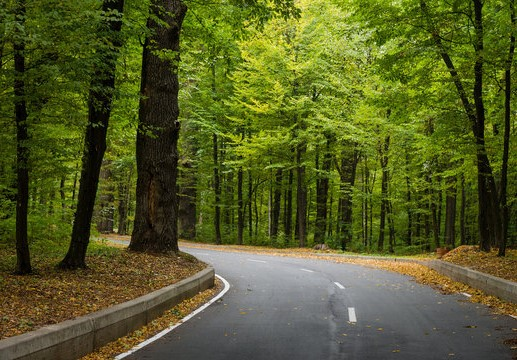leftTrun: (192, 227, 439, 360)
